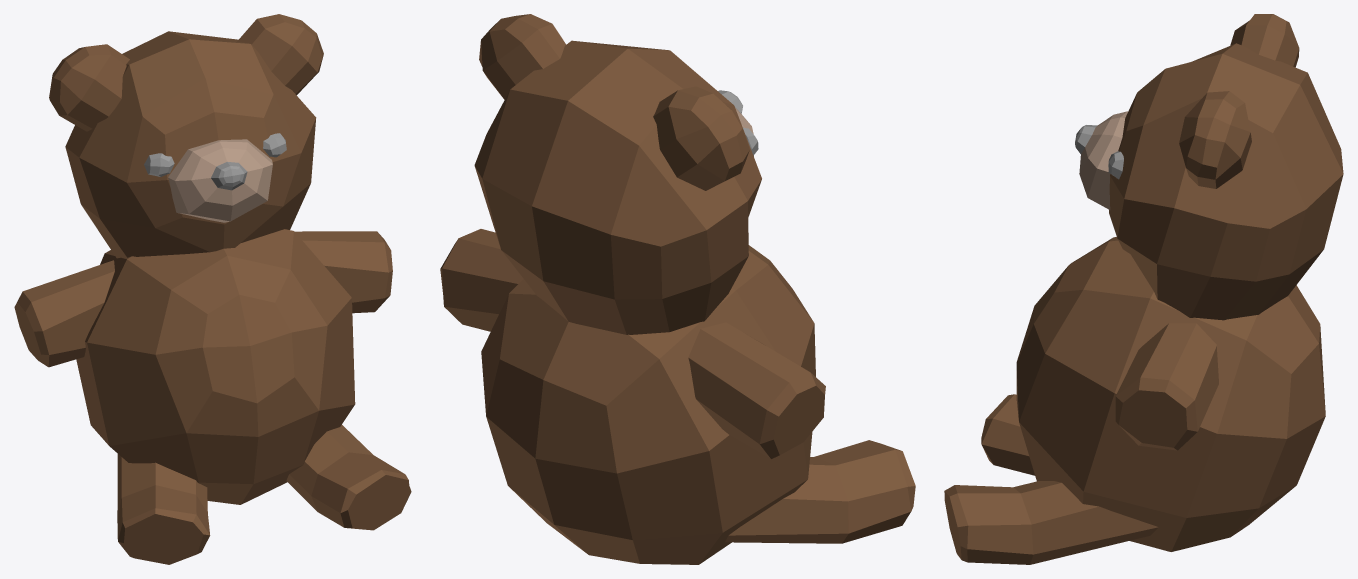
File: Toy_Bear_3.fbx
3 views of the same model, side by side, from view 1: azimuth 30°, elevation 25°; view 2: azimuth 150°, elevation 25°; view 3: azimuth 270°, elevation 25° (orthographic). The views are drawn at different scales.
Parts seen in each view (by area): view 1: Toy_Bear_3; view 2: Toy_Bear_3; view 3: Toy_Bear_3.
Boxes of the visible parts, x1,y1,x2,y2 form: Toy_Bear_3: [14, 14, 411, 564]; Toy_Bear_3: [440, 14, 915, 564]; Toy_Bear_3: [944, 14, 1343, 564].
Bounding box in the file's own units: 62.47 × 58.77 × 79.
